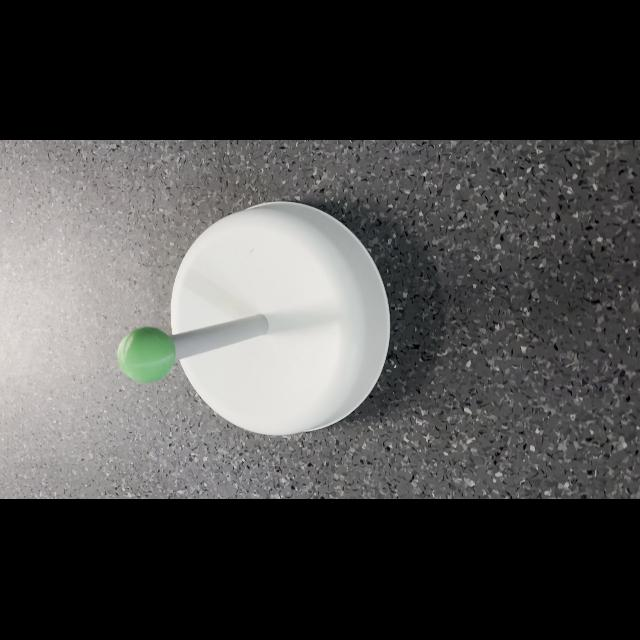objects: (114, 324, 178, 388)
